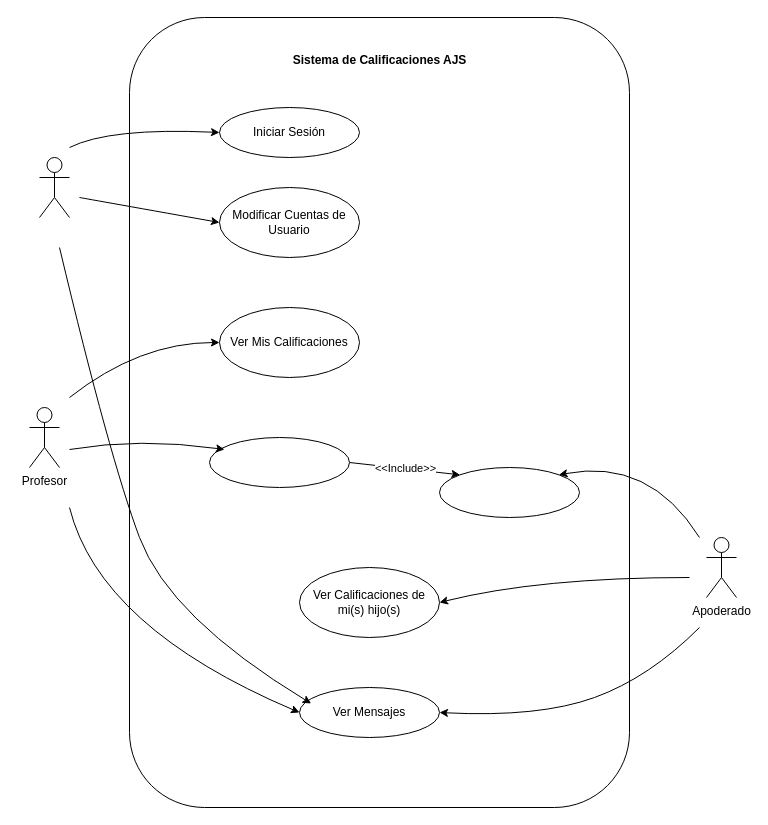
The diagram is 768 pixels wide and 825 high, and some of its shapes have lost their labels. Each missing label, with the centre of its shape:
"Administrador" goes at pixel 54 187.
"Generar Reporte" goes at pixel 279 462.
"Notificar Apoderado" goes at pixel 509 492.
